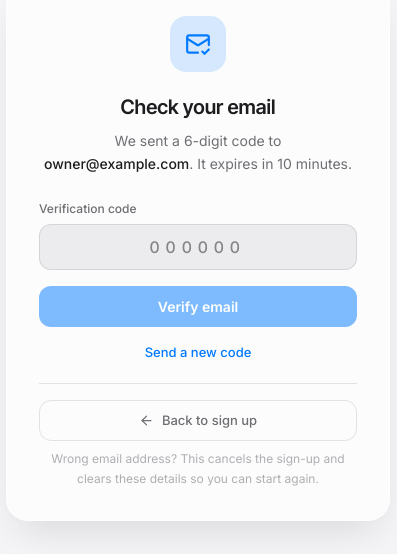
VerifyEmail › an expired sign-up session › swaps the form out when verification comes back 410
Type "123456" into the field labelled "Verification code".
click(198, 246); type("123456")  # box left=39, top=224, right=357, bottom=270
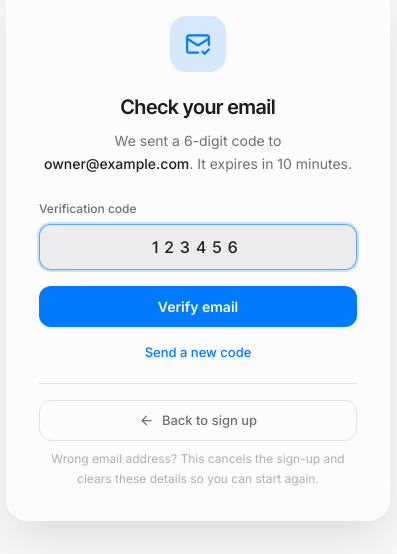
Click the button "Verify email".
click(198, 306)  # box left=39, top=286, right=357, bottom=326
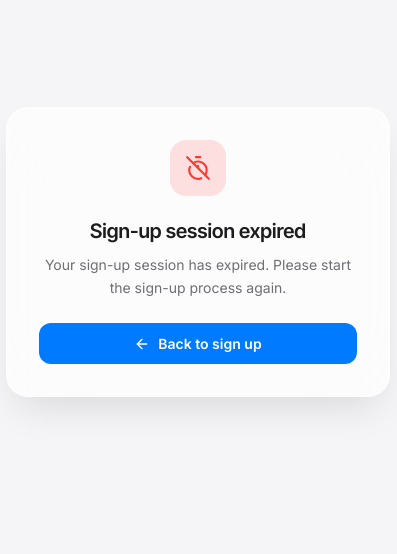
expect the message shows "expired": met, box left=45, top=256, right=351, bottom=296
expect the button "Verify email" is gone: met
